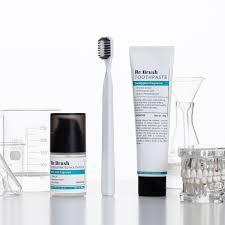toothpaste: (126, 42, 188, 203)
